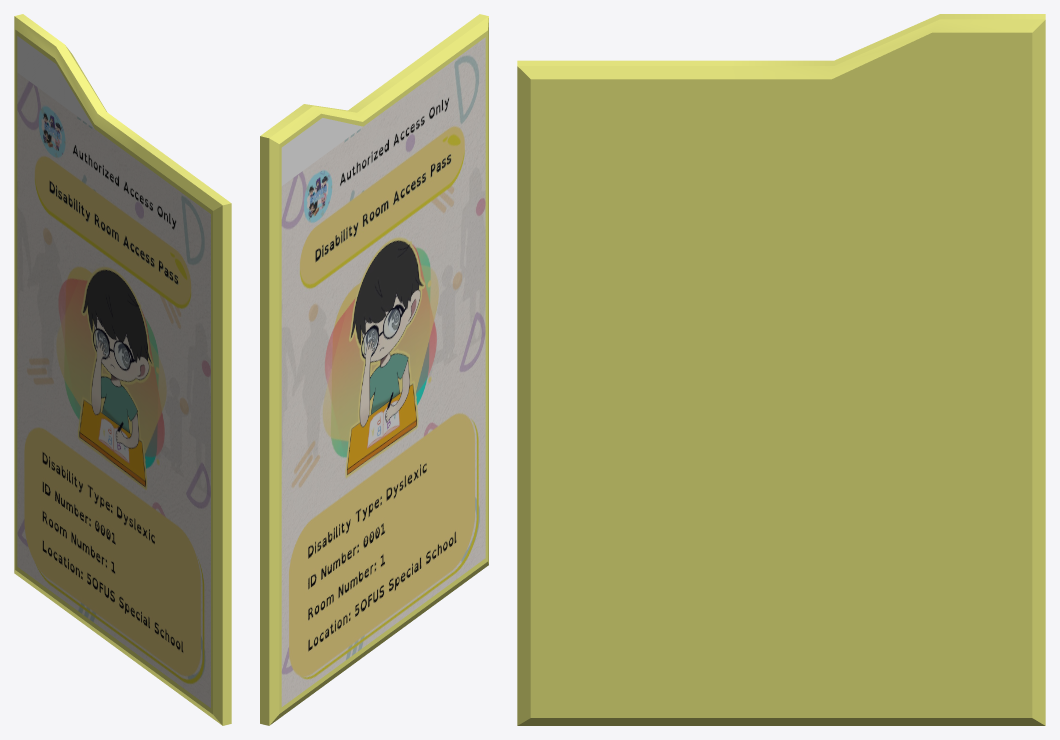
The model's file is dyslexicCard.fbx.
3 renders of one model, left to right at view 1: azimuth 30°, elevation 25°; view 2: azimuth 150°, elevation 25°; view 3: azimuth 270°, elevation 25°, orthographic. The views are drawn at different scales.
Parts seen in each view (by area): view 1: pCube39; view 2: pCube39; view 3: pCube39.
Boxes of the visible parts, box(x1,y1,x2,y2) form: pCube39: box(14, 14, 231, 725); pCube39: box(260, 14, 488, 725); pCube39: box(517, 14, 1045, 725).
Bounding box in the file's own units: 1.34 × 40.99 × 27.78.
Materials: 3 (1 with a texture image).
